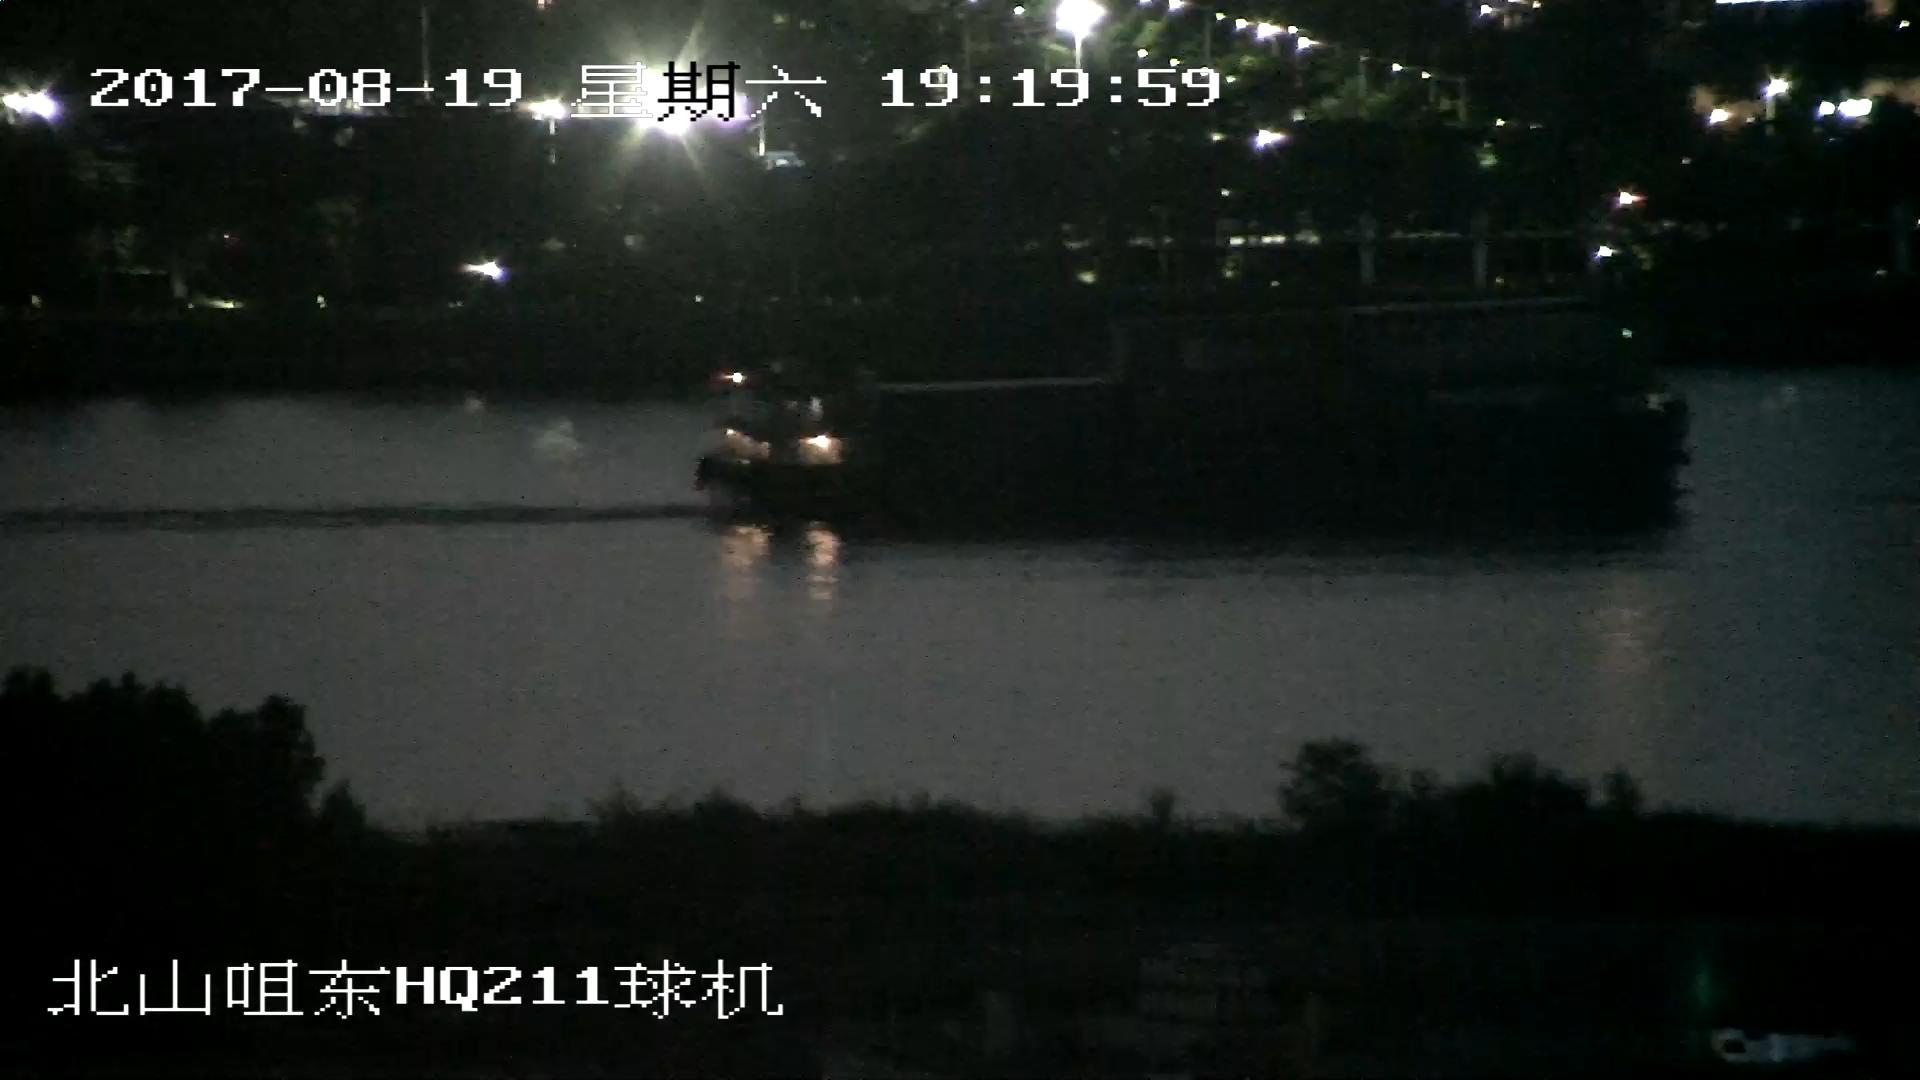container ship: (717, 312, 1692, 542)
